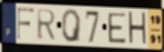7: (85, 9, 102, 45)
E: (106, 12, 127, 45)
F: (16, 7, 36, 41)
H: (127, 10, 148, 47)
Q: (60, 8, 83, 44)
R: (36, 8, 57, 41)
